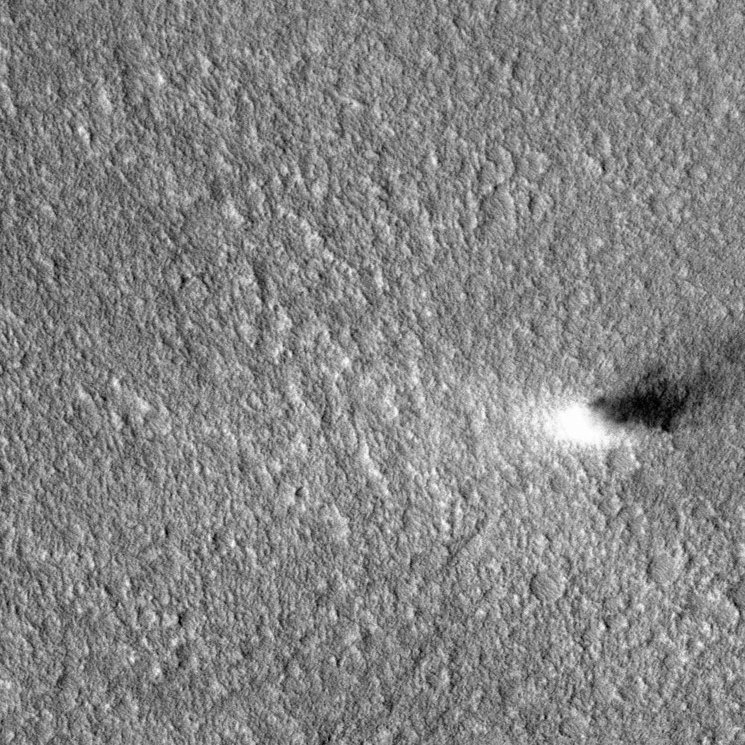dust_devil: (535, 374, 700, 458)
